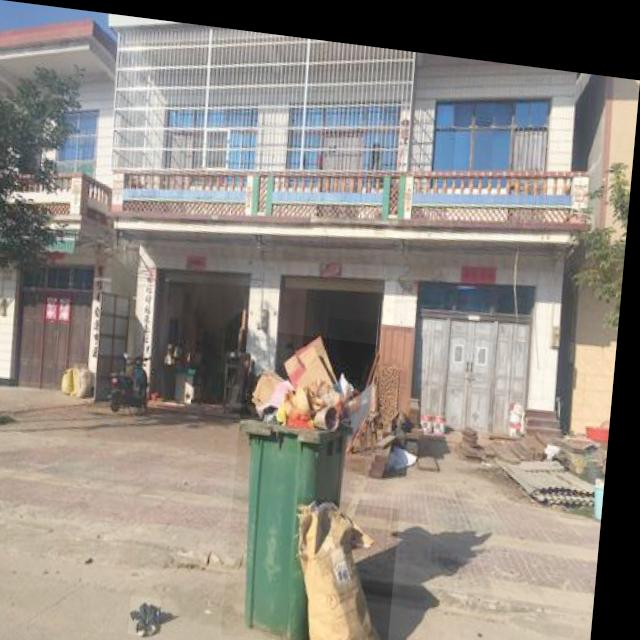garbage: (294, 488, 408, 640), (139, 591, 172, 632)
overflow: (232, 321, 381, 640)
